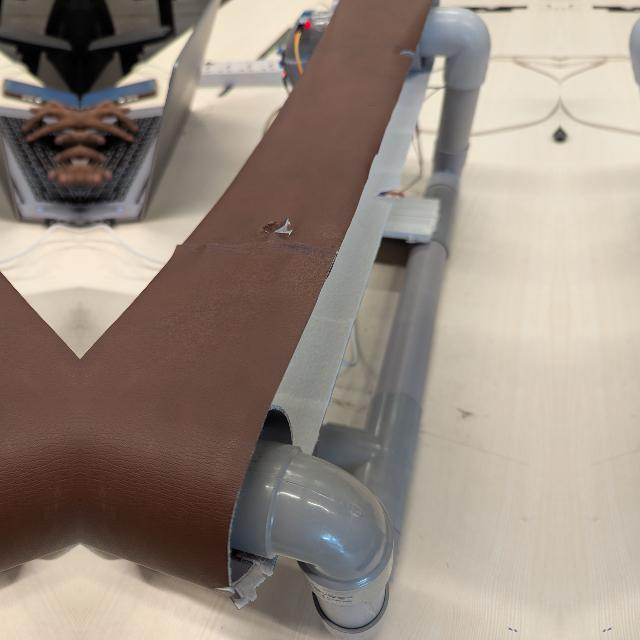joint_damage: (250, 199, 318, 261)
